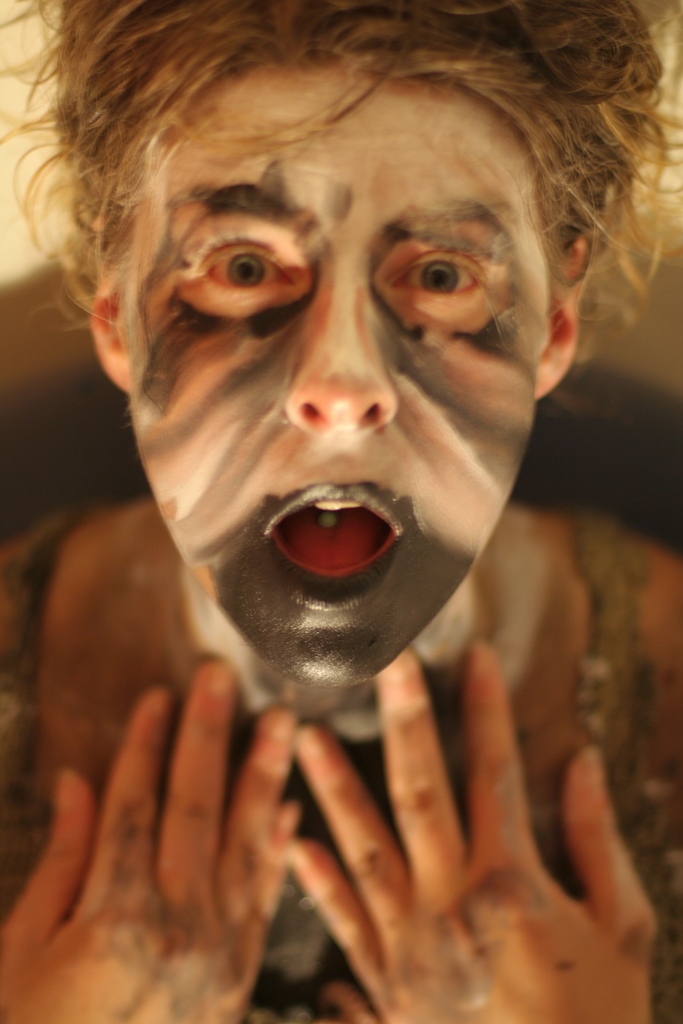Person: (0, 0, 683, 1024)
